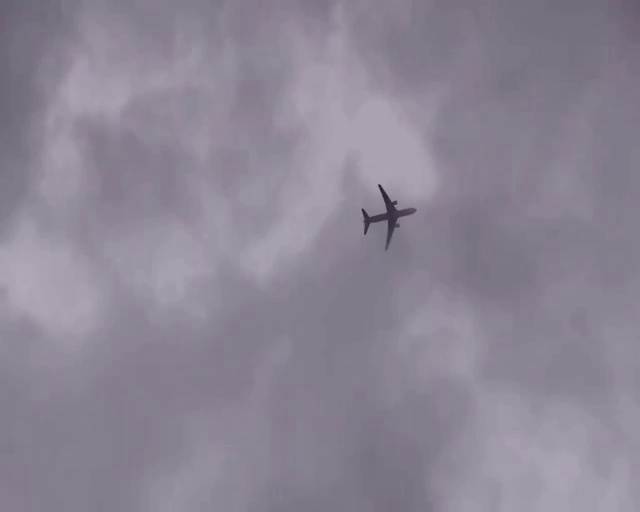AIRPLANE: (361, 183, 417, 251)
